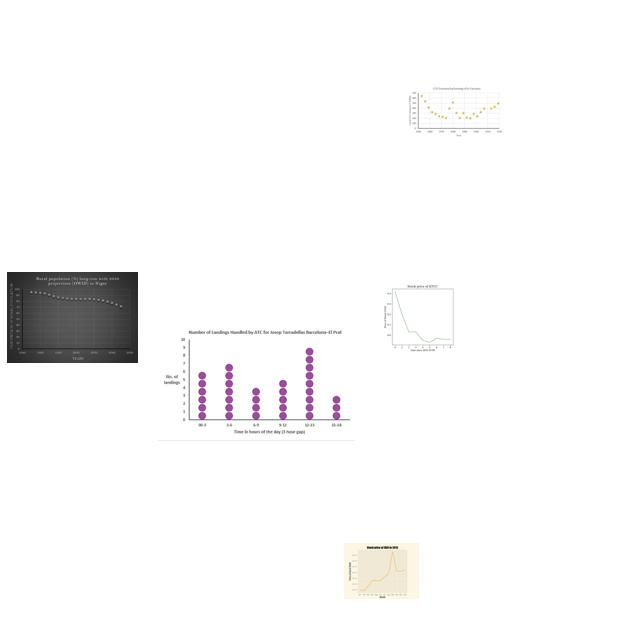Graph: (158, 325, 355, 441), (7, 272, 138, 363), (373, 280, 470, 353), (408, 86, 503, 138), (344, 543, 419, 599)
